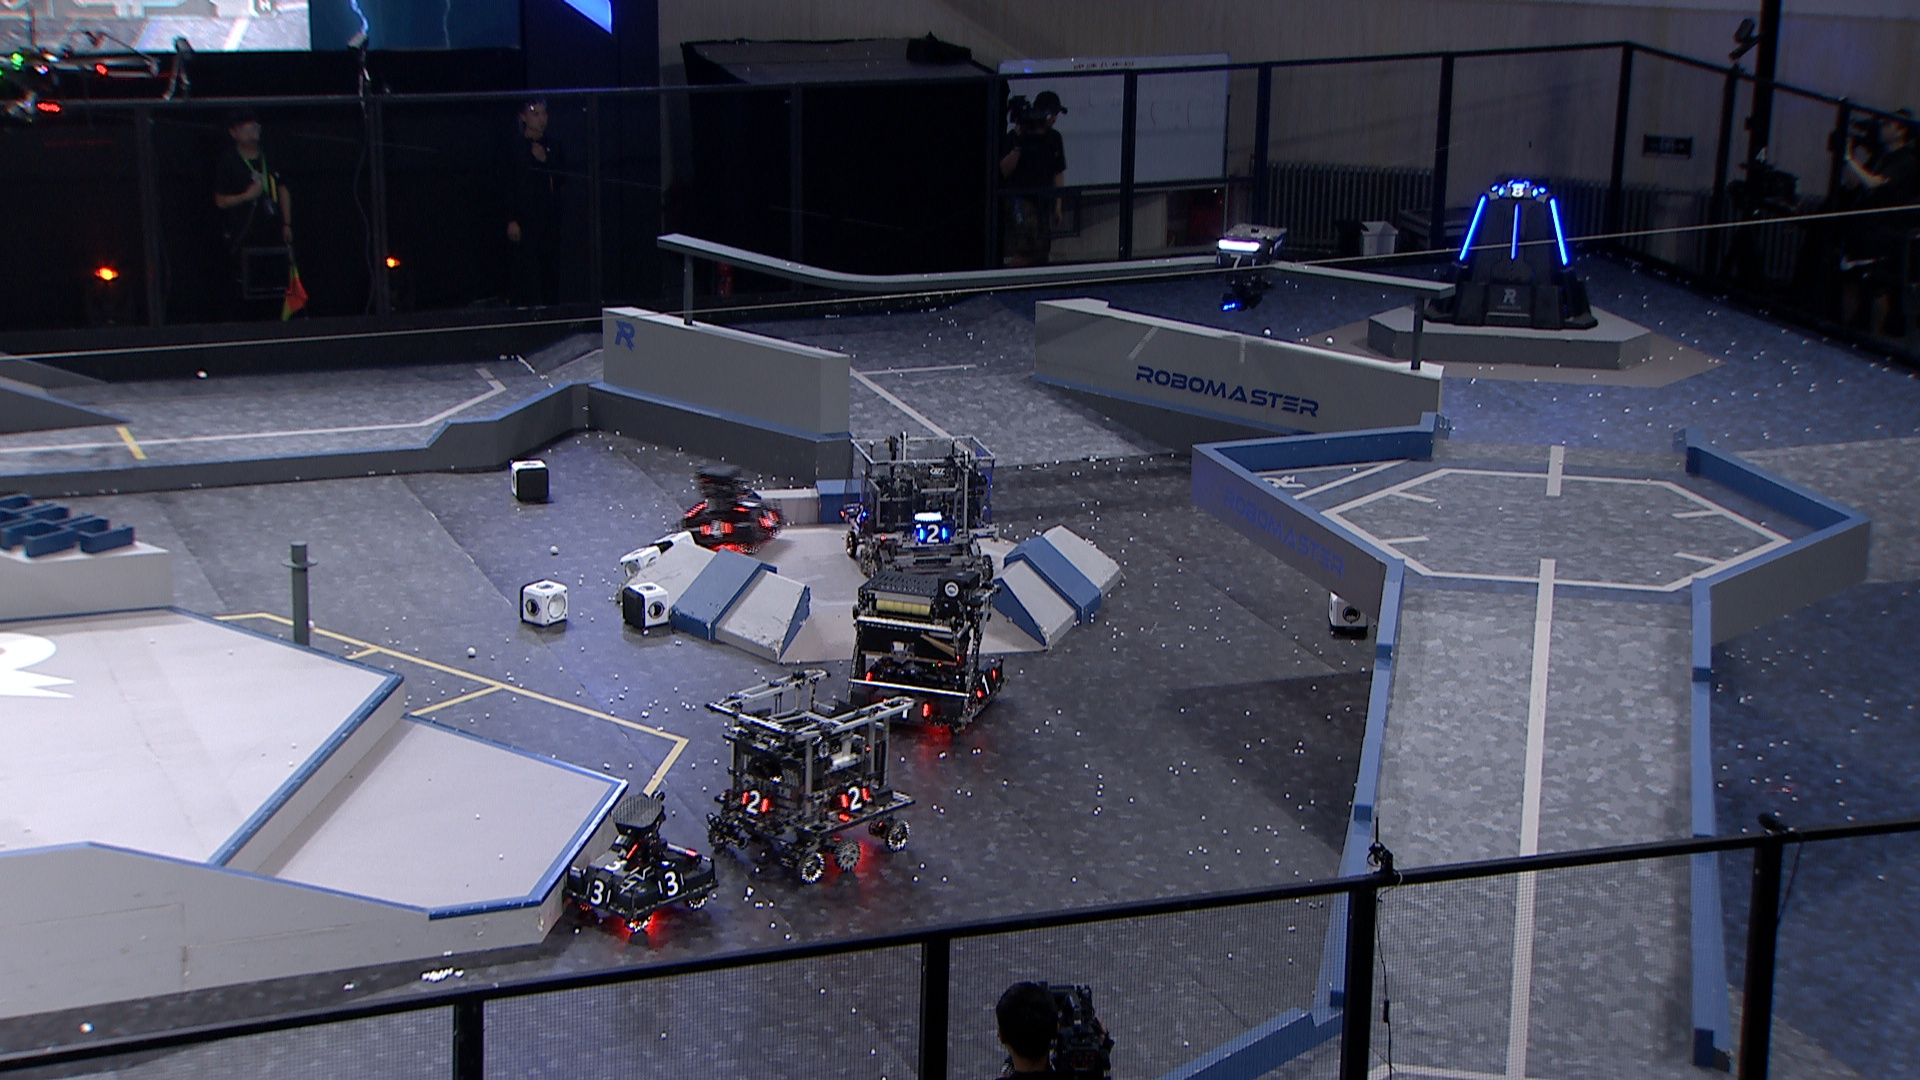armor: (1458, 194, 1489, 264), (1547, 196, 1571, 268), (595, 855, 641, 878), (1215, 251, 1259, 273), (738, 789, 770, 820), (839, 783, 872, 814), (654, 868, 686, 897), (695, 520, 735, 541), (584, 880, 612, 907), (895, 700, 931, 721), (916, 522, 949, 545), (1495, 183, 1542, 199), (975, 669, 998, 699), (1509, 200, 1519, 262), (756, 508, 782, 531), (731, 496, 760, 514), (851, 504, 869, 526)
base: (1423, 178, 1600, 332)
car: (707, 665, 911, 880), (849, 567, 1006, 742), (844, 431, 998, 588), (564, 793, 717, 936), (666, 462, 785, 556)
watcher: (1211, 223, 1288, 313)
